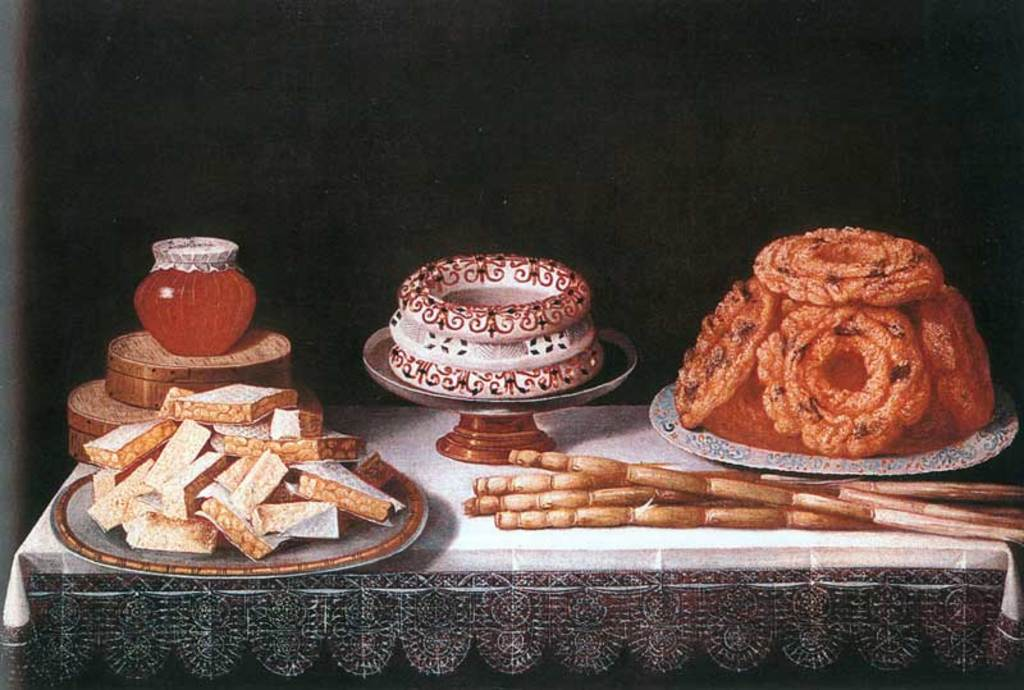cake: (675, 225, 998, 458), (385, 253, 611, 397)
